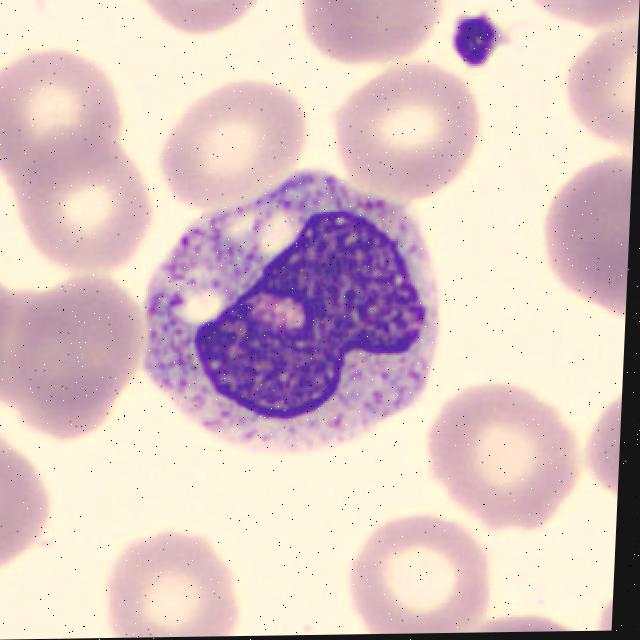monocyte: (138, 173, 448, 455)
platelets: (447, 15, 506, 72)
rbc: (427, 395, 575, 528), (326, 66, 477, 194), (161, 90, 305, 215), (347, 516, 492, 634), (21, 145, 151, 276), (15, 281, 146, 405), (539, 161, 632, 318), (0, 62, 113, 187), (106, 533, 236, 638), (0, 333, 108, 442), (306, 0, 442, 63), (571, 29, 638, 150), (0, 426, 55, 567), (135, 0, 263, 34), (511, 0, 640, 32), (586, 395, 622, 494), (468, 616, 595, 633), (0, 224, 11, 417)
